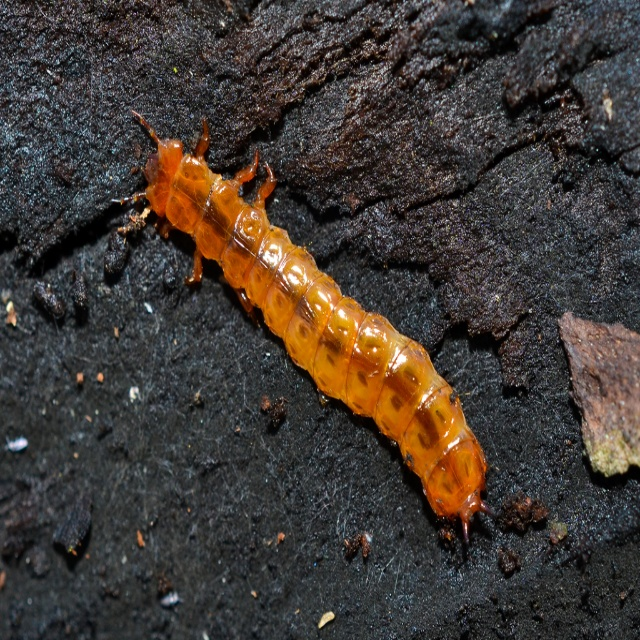Caterpillar: (111, 106, 489, 548)
